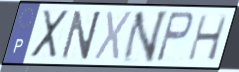H: (185, 12, 230, 62)
N: (118, 9, 171, 65), (59, 9, 104, 62)
P: (153, 10, 195, 65)
X: (91, 9, 135, 63), (28, 9, 71, 61)
